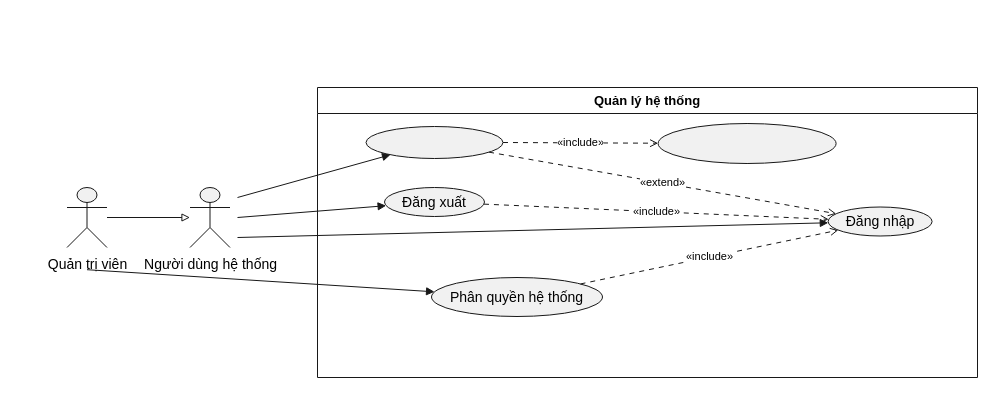
Some shapes in this 995 by 395 pixel diagram are drawn without their labels. The shapes that lost their labels are listed below. From the top down, each one's centre as x and y in pixels, then its label:
At (x=434, y=142): "Quên mật khẩu".
At (x=746, y=143): "Xác thực OTP / Email".
